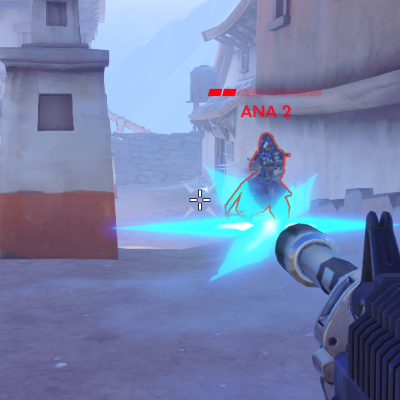hpbar: (207, 88, 324, 97)
